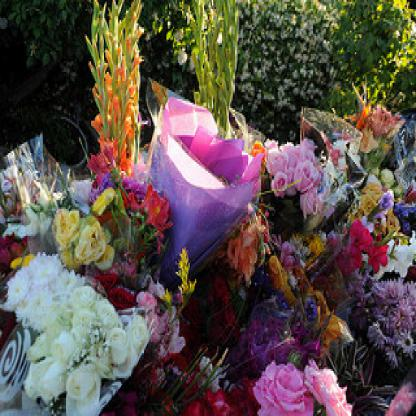ROSE-MAWAR: (10, 261, 134, 416)
